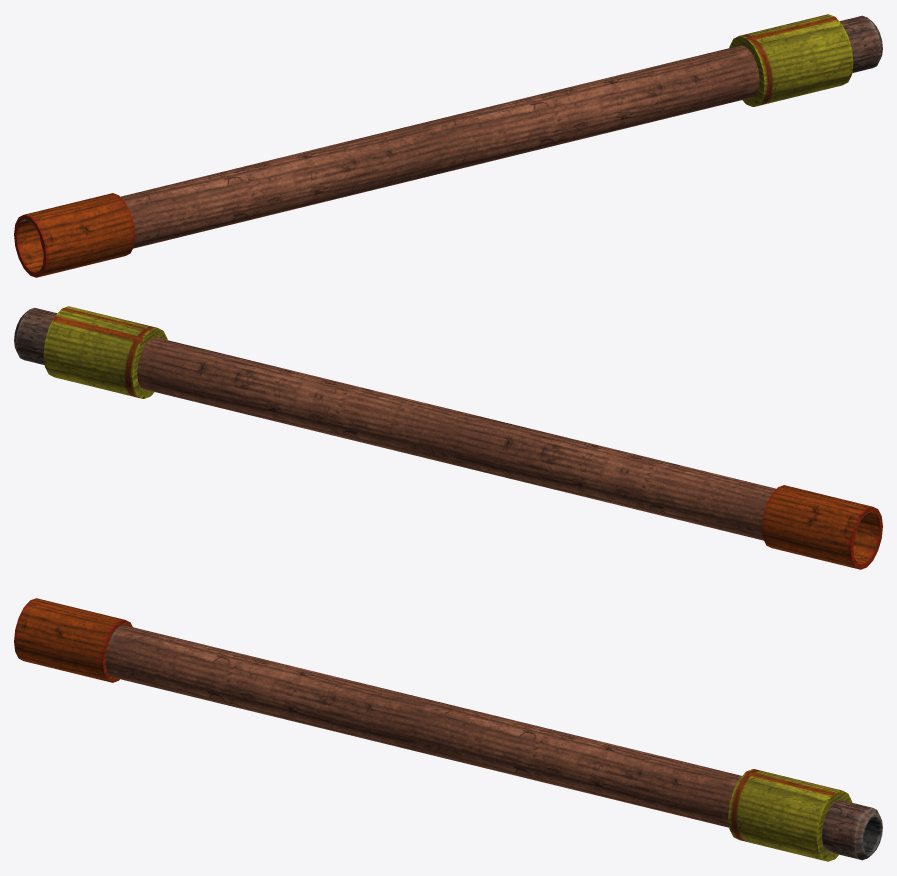
File: blow dart.fbx
The picture shows the model from 3 angles, top to bottom: view 1: azimuth 30°, elevation 25°; view 2: azimuth 150°, elevation 25°; view 3: azimuth 330°, elevation 25°; orthographic projection.
Visible parts, largest first — view 1: Cylinder, Cylinder_2, Cylinder_1; view 2: Cylinder, Cylinder_2, Cylinder_1; view 3: Cylinder, Cylinder_1, Cylinder_2.
Part boxes in pixels (bbox=[...]): Cylinder: bbox=[120, 15, 882, 248]; Cylinder_2: bbox=[14, 193, 134, 277]; Cylinder_1: bbox=[729, 14, 853, 106]; Cylinder: bbox=[14, 307, 776, 540]; Cylinder_2: bbox=[762, 485, 882, 569]; Cylinder_1: bbox=[43, 306, 167, 398]; Cylinder: bbox=[105, 625, 882, 860]; Cylinder_1: bbox=[728, 769, 852, 861]; Cylinder_2: bbox=[14, 598, 132, 682].
Bounding box in the file's own units: 1809 × 136 × 136.
